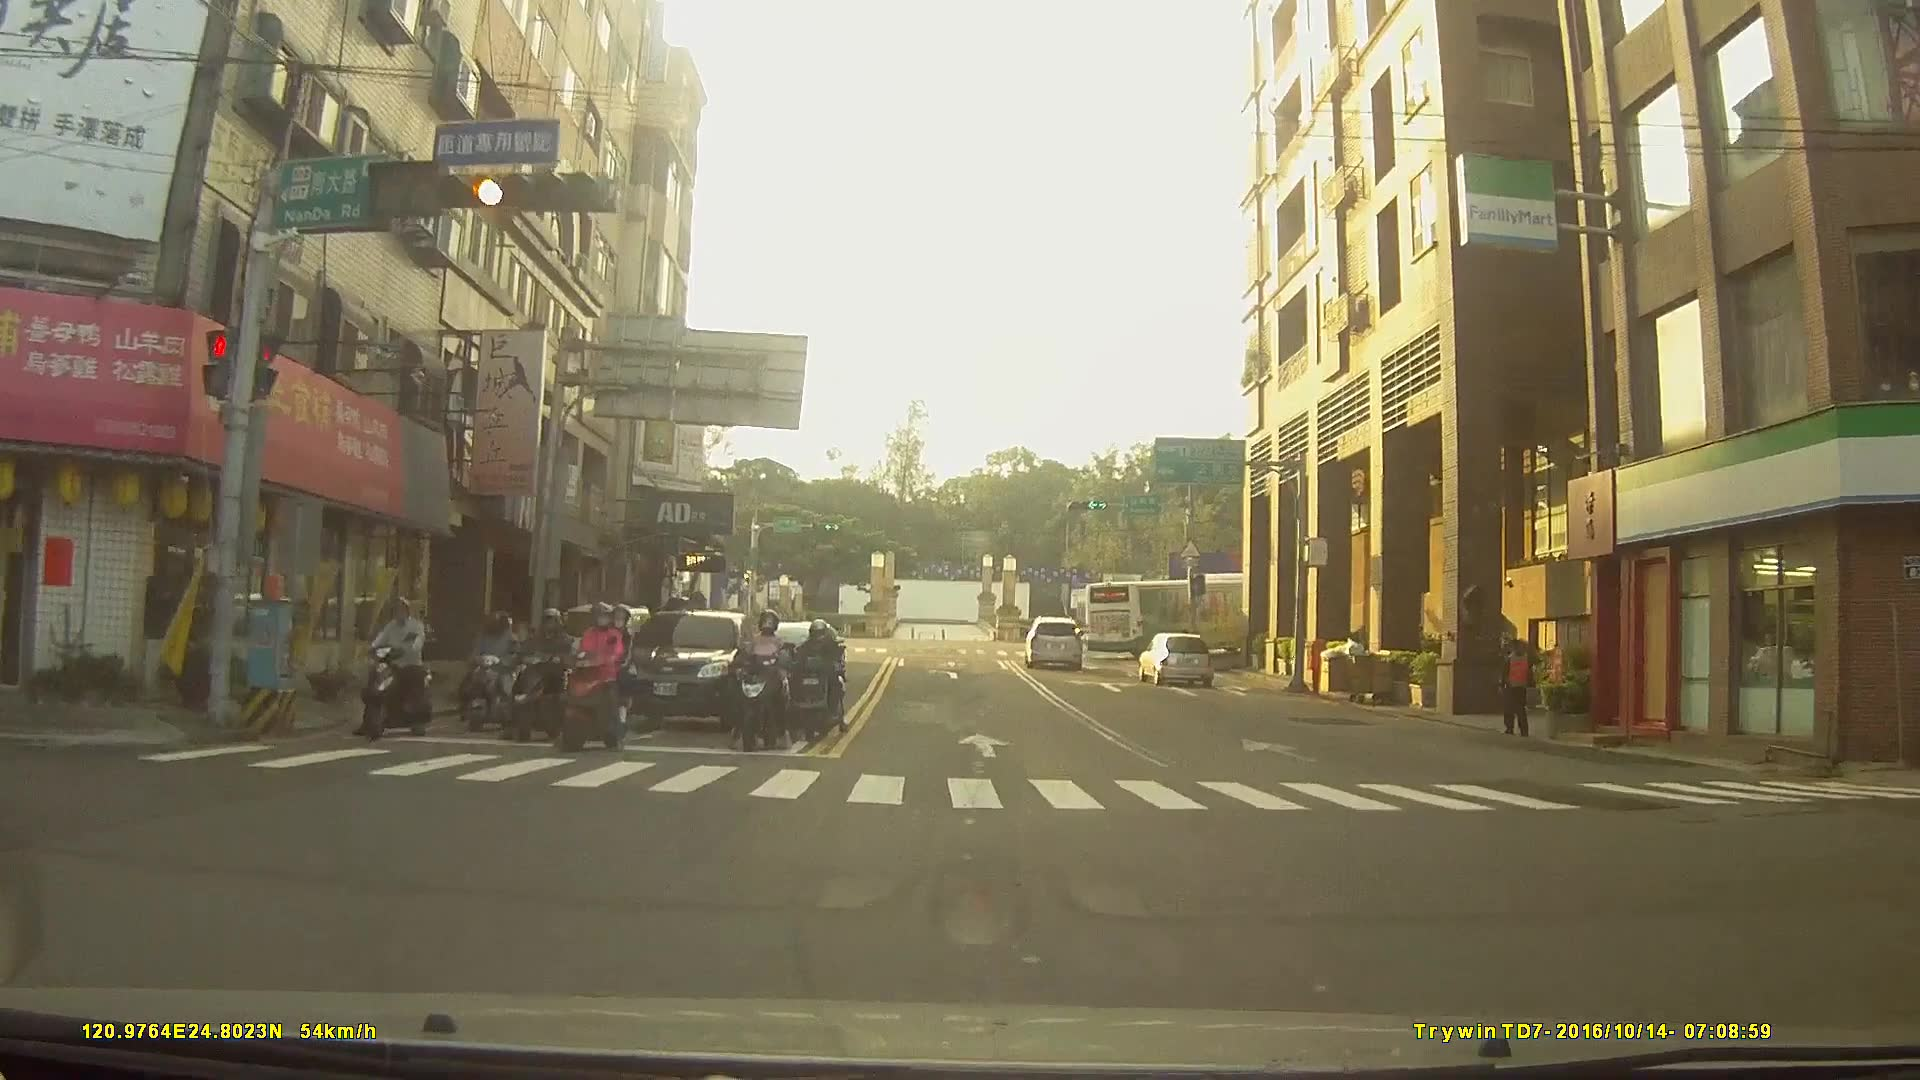pedestrian: (1493, 638, 1543, 743)
rider: (552, 597, 639, 752), (361, 595, 436, 738), (505, 598, 578, 738), (734, 610, 799, 746), (463, 605, 525, 728), (784, 618, 844, 742)
vehicle: (1083, 568, 1283, 659), (613, 605, 758, 726), (1136, 628, 1215, 684), (1022, 613, 1083, 667)
